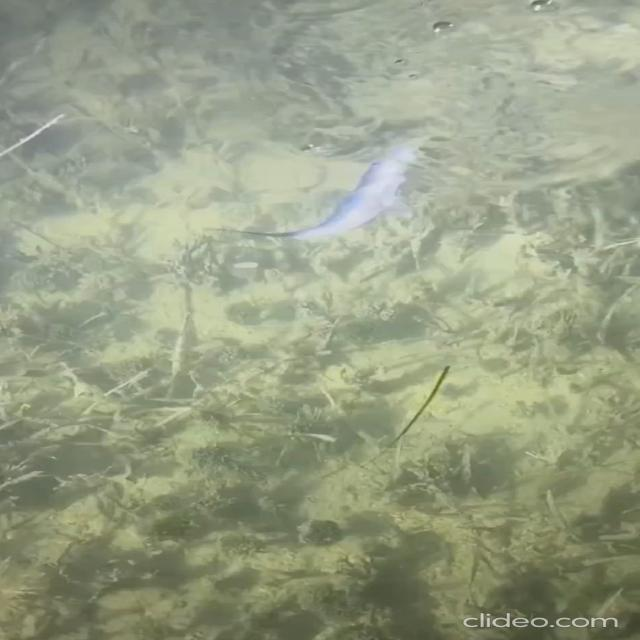fish: (246, 136, 450, 246)
